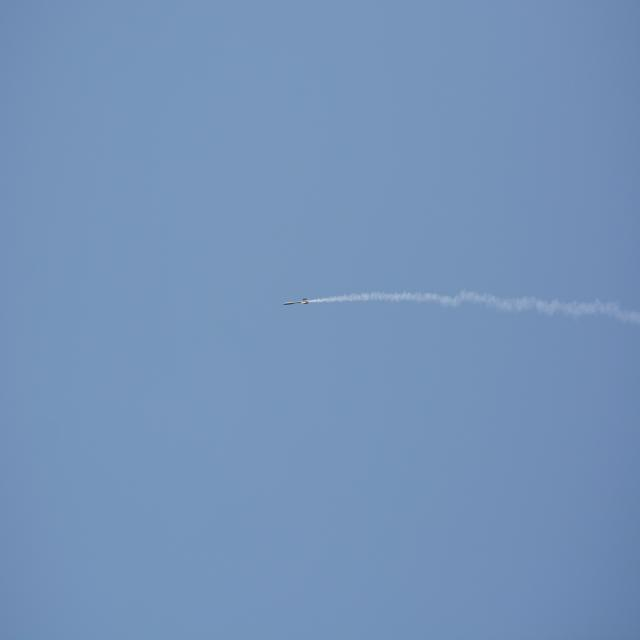Rocket: (283, 298, 309, 305)
